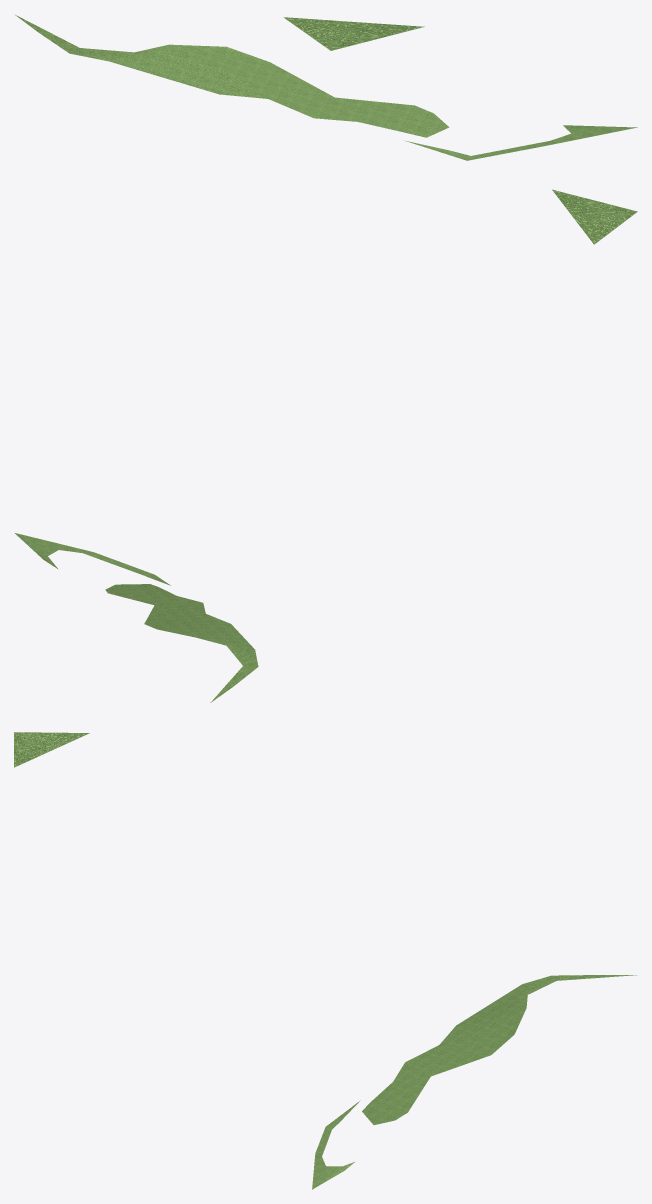
File: kd_stage_136282_4_3_bounded.glb
3 views of the same model, one above another, from view 1: azimuth 30°, elevation 25°; view 2: azimuth 150°, elevation 25°; view 3: azimuth 270°, elevation 25° (orthographic). The views are drawn at different scales.
Visible parts, largest first — view 1: kd_stage_136282_4_3_bounded; view 2: kd_stage_136282_4_3_bounded; view 3: kd_stage_136282_4_3_bounded.
Boxes of the visible parts, x1,y1,x2,y2 form: kd_stage_136282_4_3_bounded: [15, 15, 637, 160]; kd_stage_136282_4_3_bounded: [15, 189, 637, 702]; kd_stage_136282_4_3_bounded: [14, 732, 637, 1189].
Bounding box in the file's own units: 88.42 × 57.63 × 122.
1 material, 1 textured.
